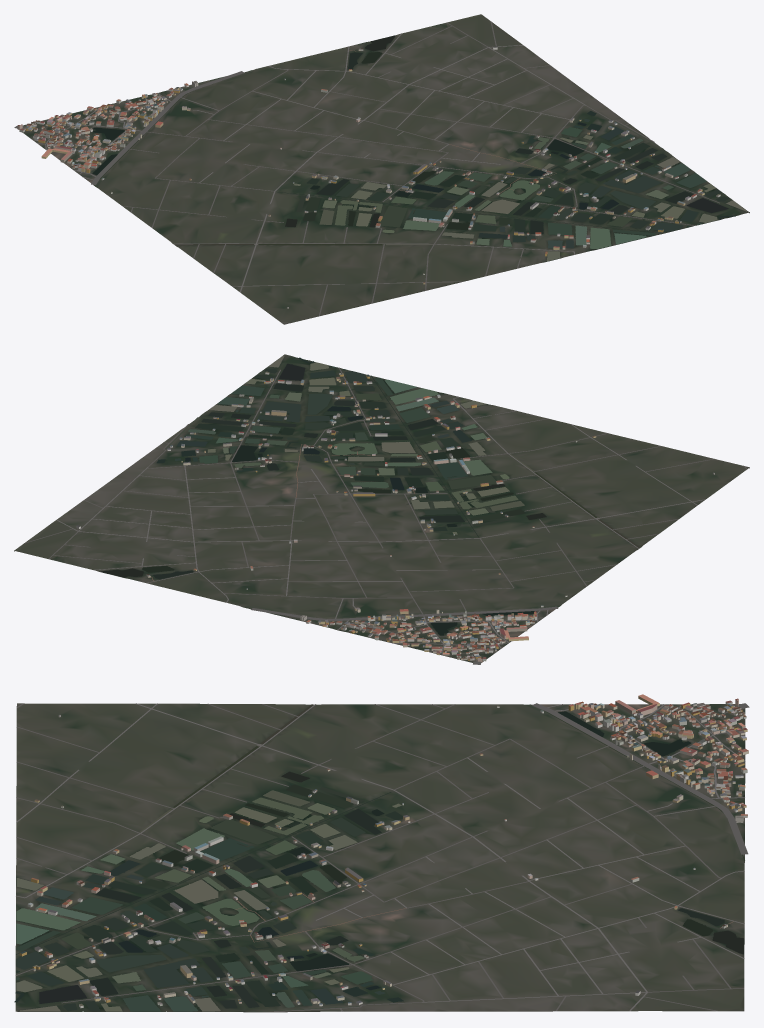
The picture shows the model from 3 angles, top to bottom: view 1: azimuth 30°, elevation 25°; view 2: azimuth 150°, elevation 25°; view 3: azimuth 270°, elevation 25°; orthographic projection. The views are drawn at different scales.
Visible parts, largest first — view 1: ground, water, roads, buildings; view 2: ground, water, roads, buildings; view 3: ground, water, buildings, roads.
Part boxes in pixels (x1=…): ground: x1=22, y1=14, x2=749, y2=324; water: x1=92, y1=35, x2=747, y2=261; roads: x1=14, y1=21, x2=719, y2=323; buildings: x1=17, y1=46, x2=720, y2=308; ground: x1=14, y1=354, x2=749, y2=662; water: x1=101, y1=355, x2=640, y2=635; roads: x1=24, y1=367, x2=747, y2=664; buildings: x1=76, y1=371, x2=714, y2=662; ground: x1=15, y1=703, x2=745, y2=1012; water: x1=14, y1=704, x2=744, y2=1011; buildings: x1=19, y1=694, x2=748, y2=1008; roads: x1=15, y1=703, x2=749, y2=1011.
Size of the model in its own units: 1434 by 19.18 by 1416.
